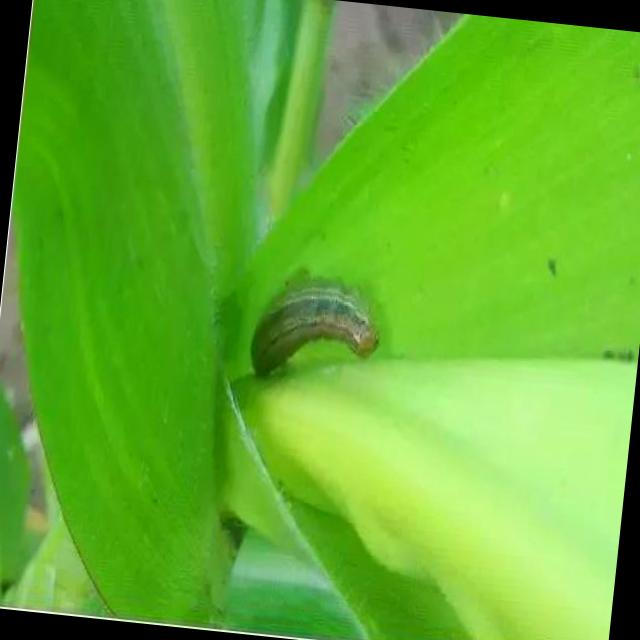pest: (242, 268, 391, 388)
